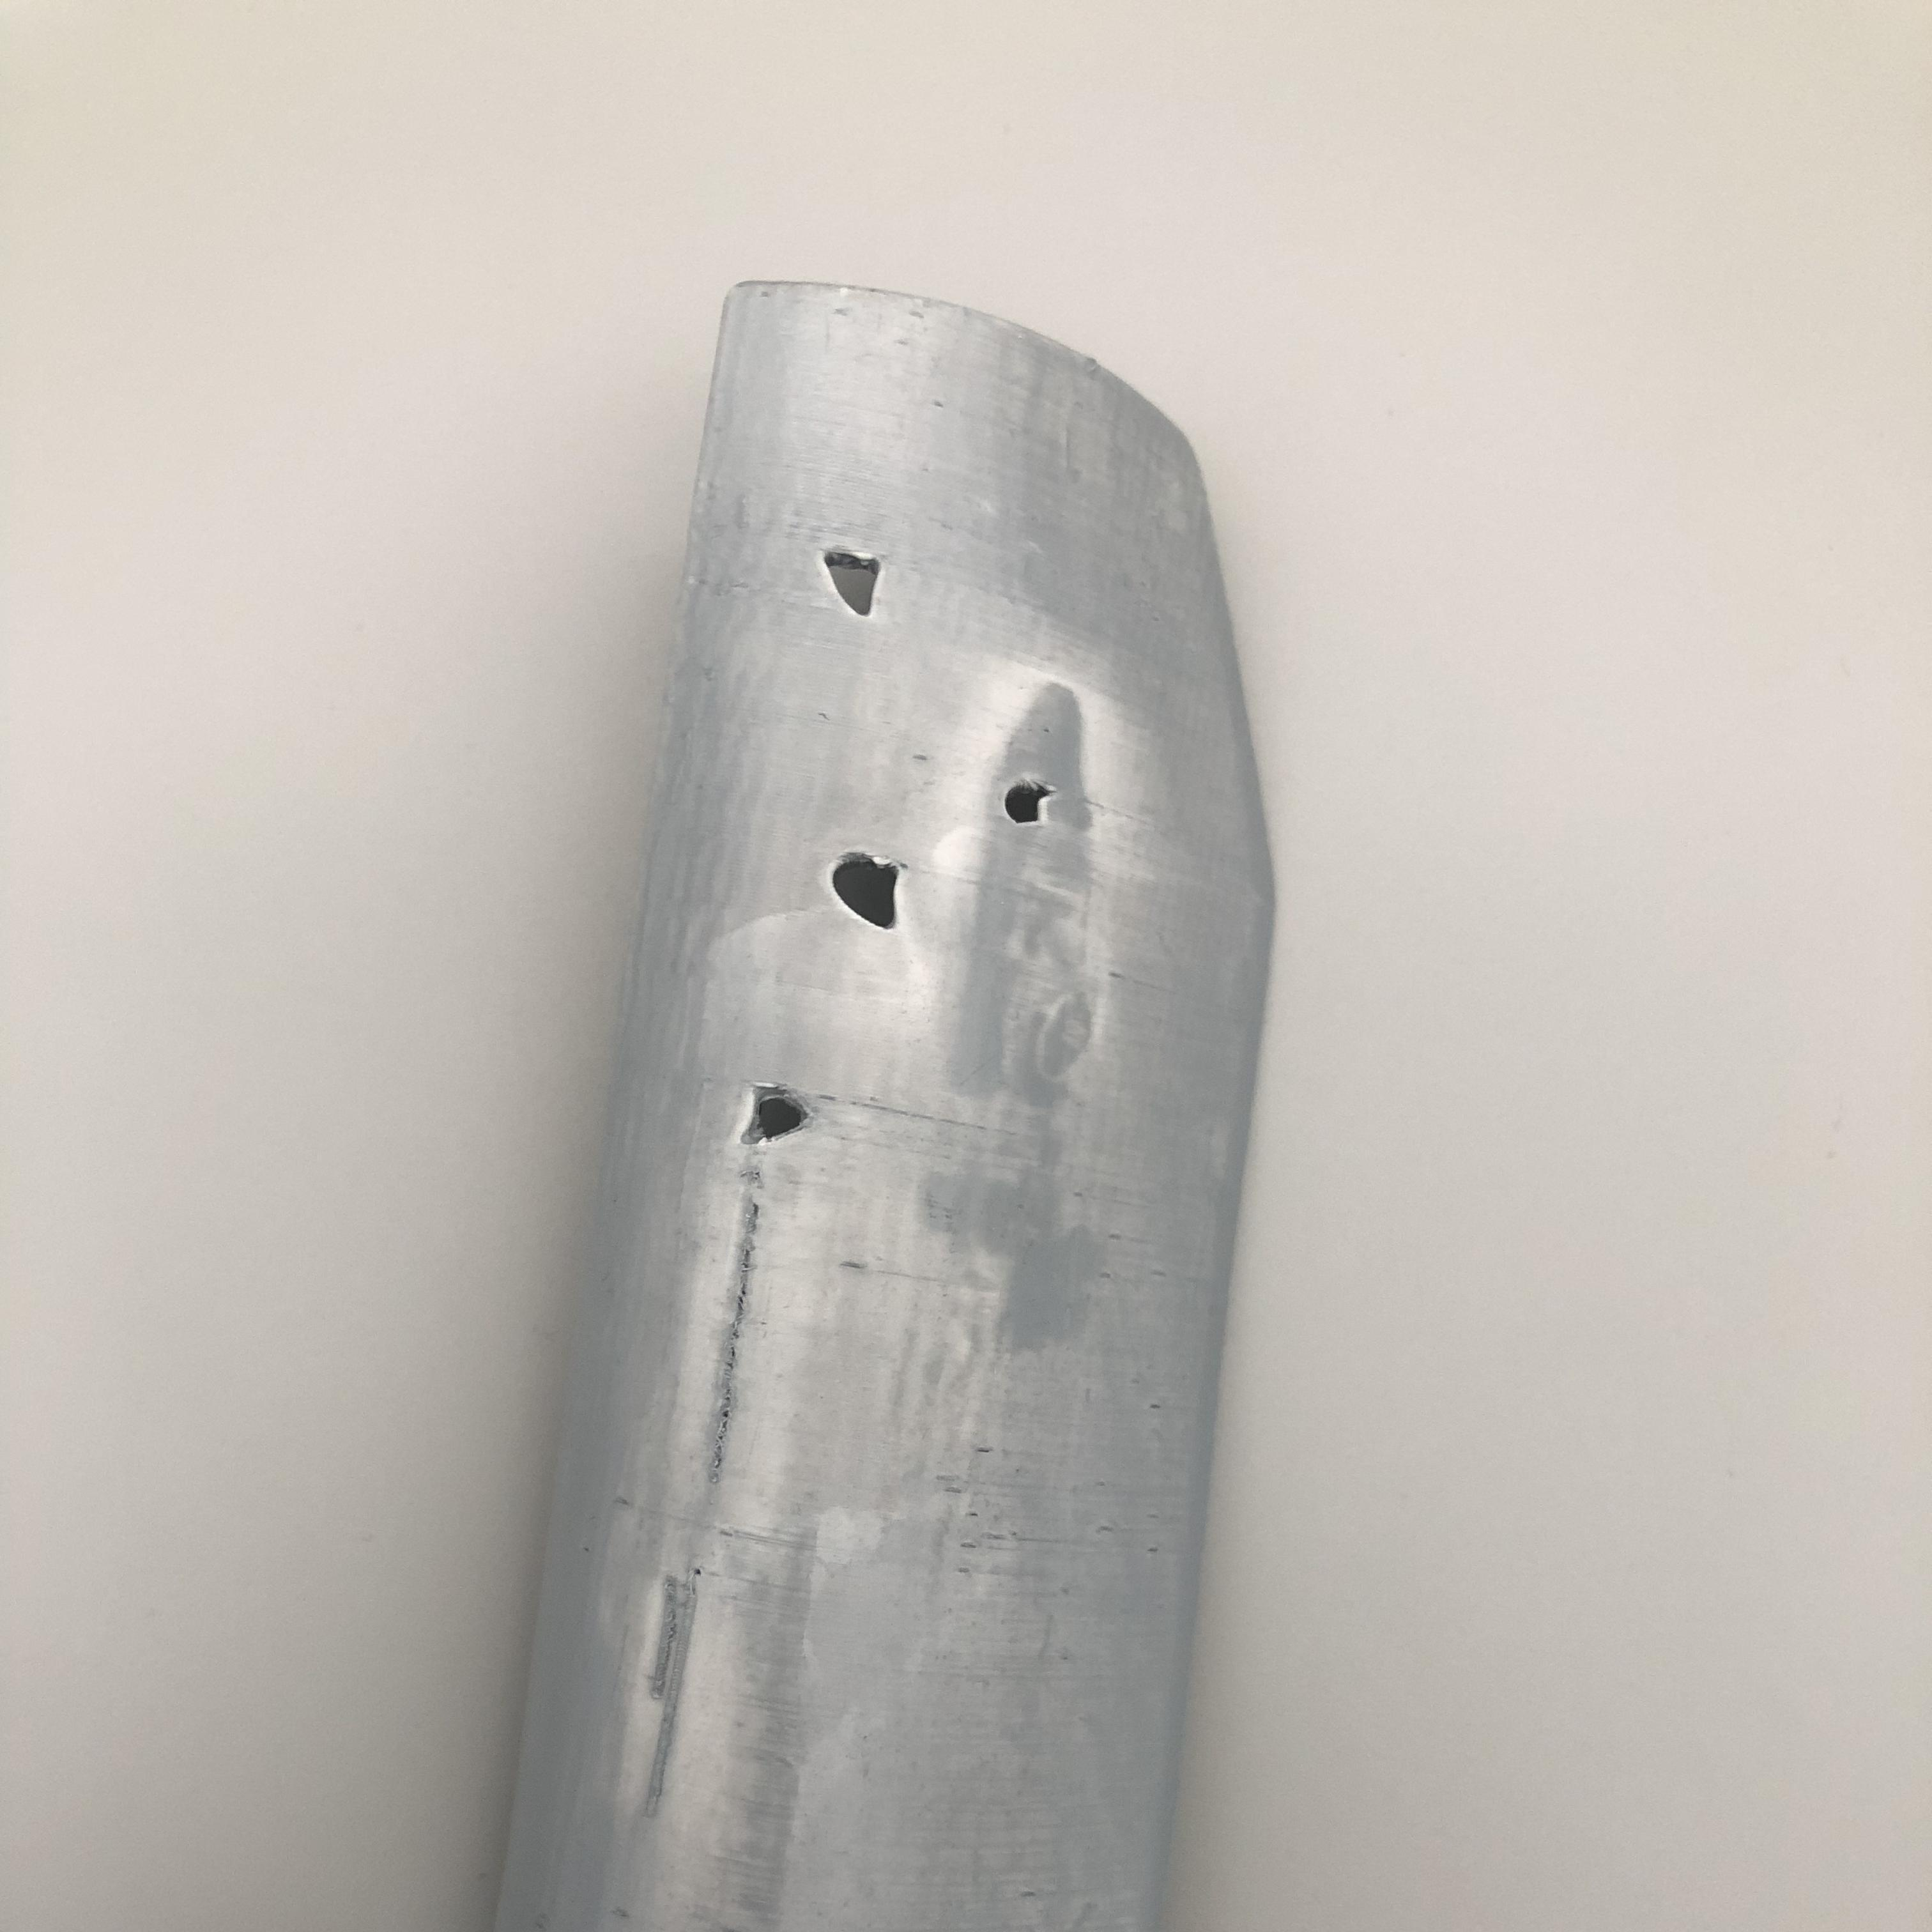breakdown: (738, 534, 1063, 1143)
